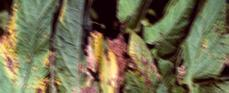Tomato leaf bacterial spot: (0, 0, 61, 93), (178, 0, 229, 88), (52, 0, 100, 93), (128, 27, 166, 93)
